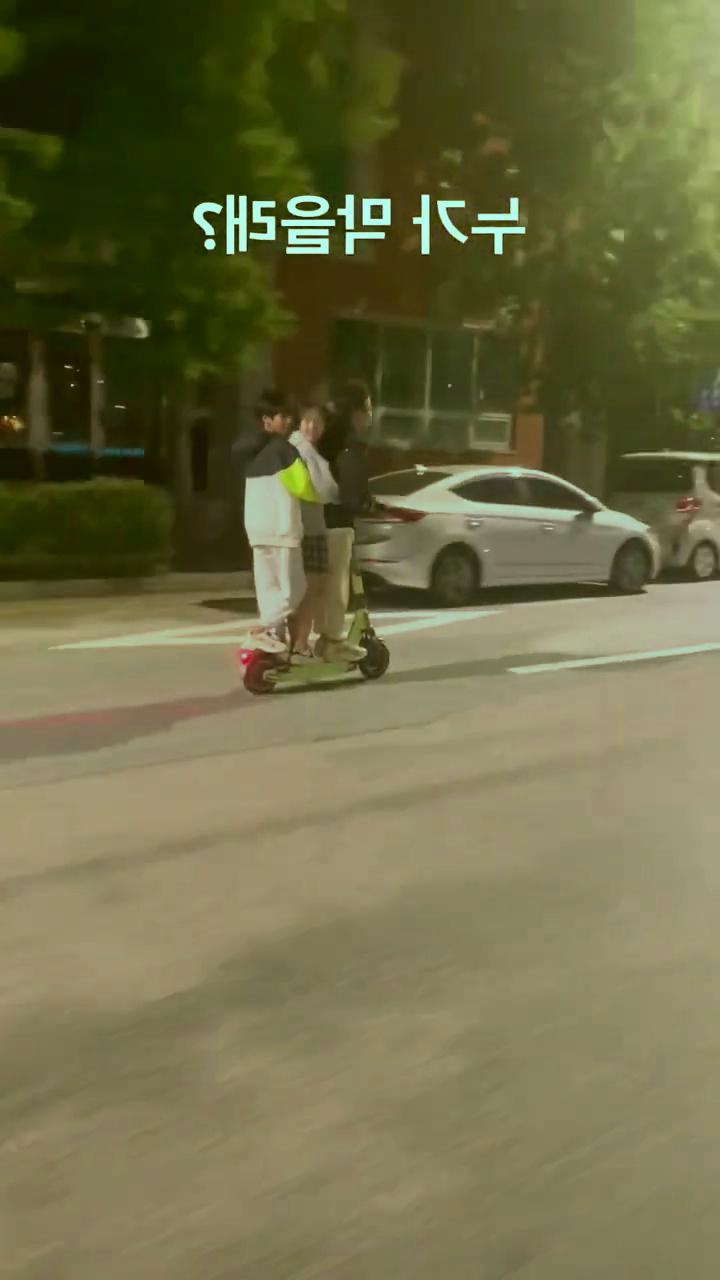multiple: (225, 376, 397, 696)
